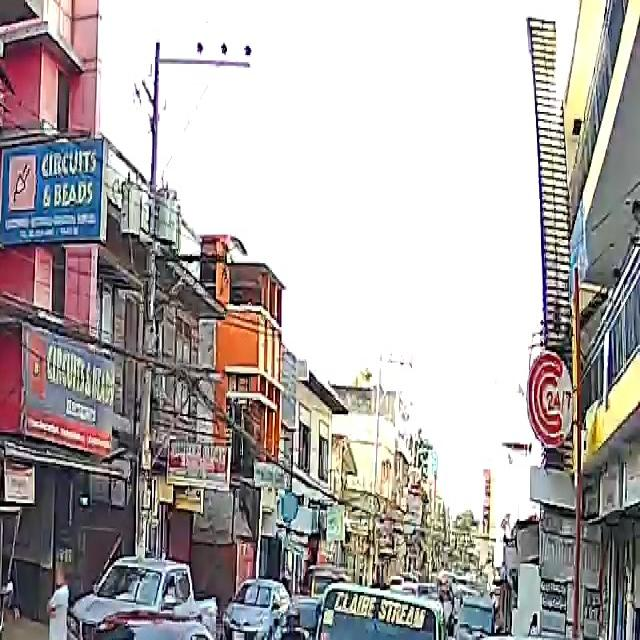car: (77, 557, 206, 638), (20, 615, 236, 640), (217, 579, 293, 640), (469, 629, 639, 640)
